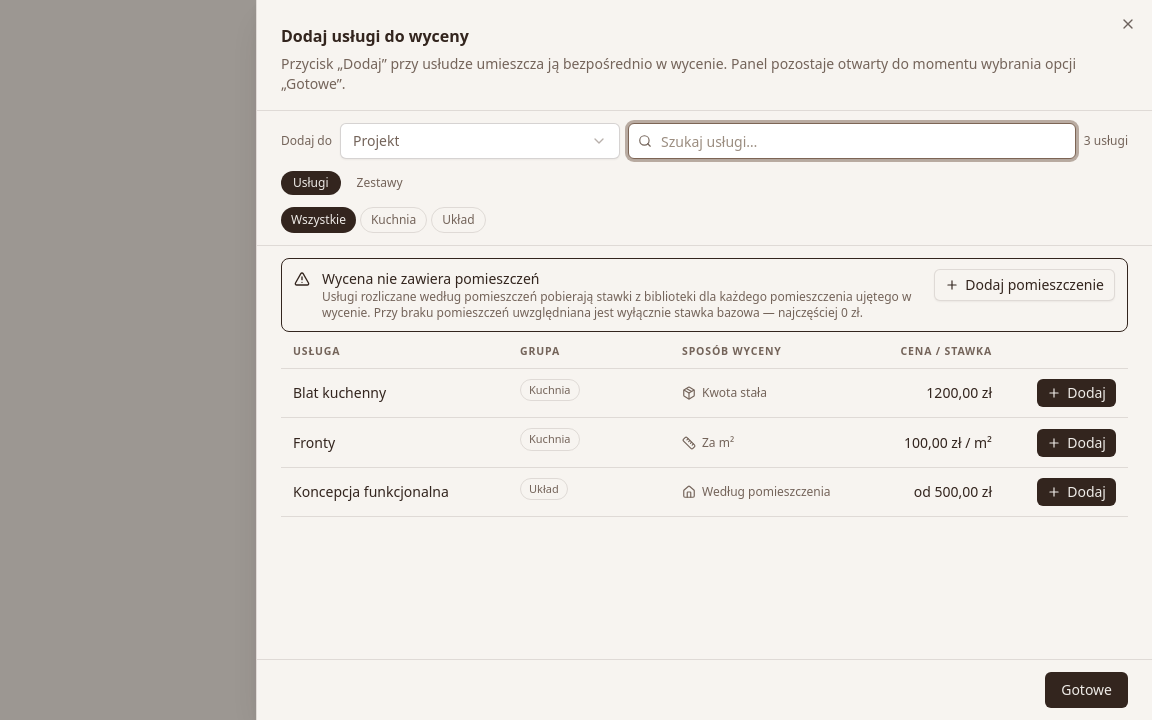
Test: ScopePanel — dodawanie usług z tabeli (T-71) › „Gotowe” zamyka i zeruje sesję dobierania
This screenshot has width=1152, height=720.
Click the button "Dodaj" in the row of "Blat kuchenny": (1077, 393) left=1037, top=379, right=1116, bottom=407
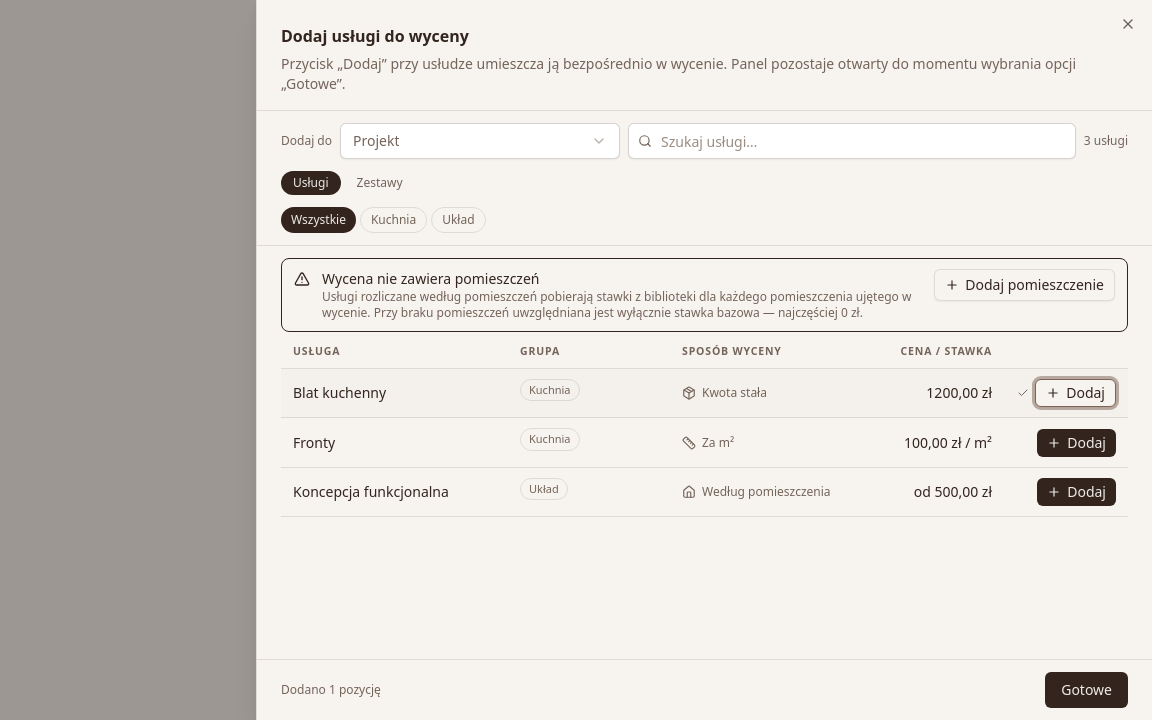
Click the button "Gotowe": (1087, 690) left=1045, top=672, right=1128, bottom=708
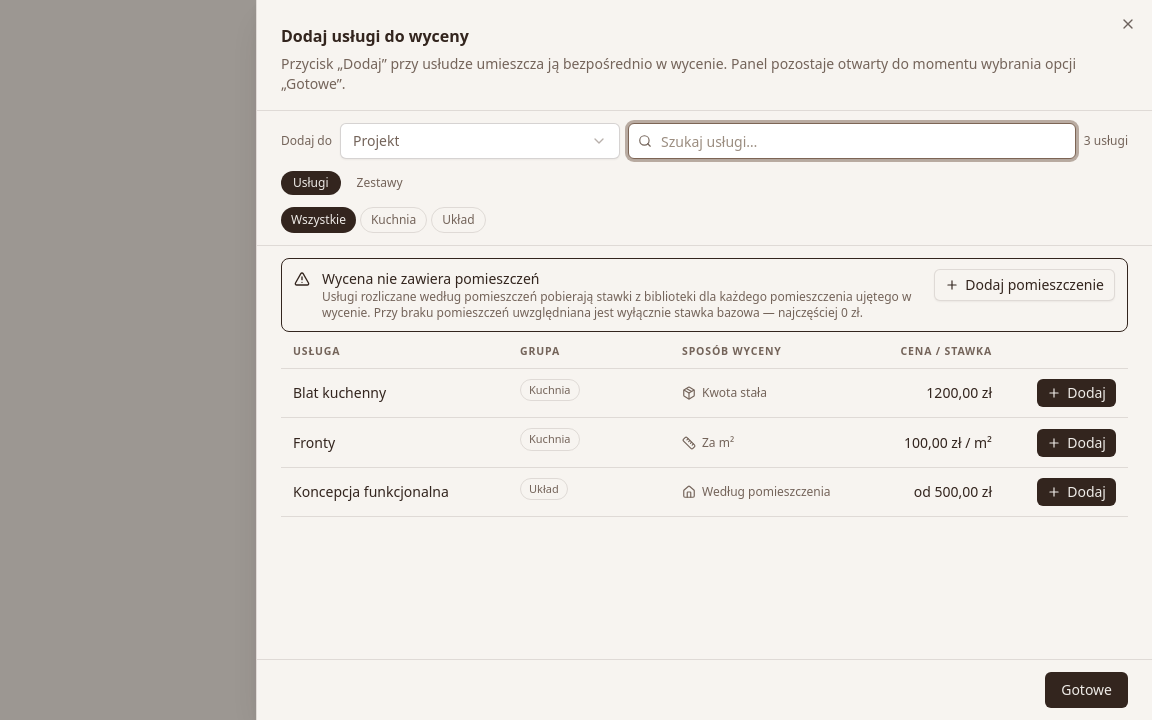
Expected: the heading "Dodaj usługi do wyceny" is shown, left=281, top=25, right=469, bottom=47
Expected: the text "Dodano 1 pozycję" is gone
